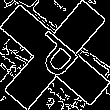P_SE: (24, 25, 86, 85)
